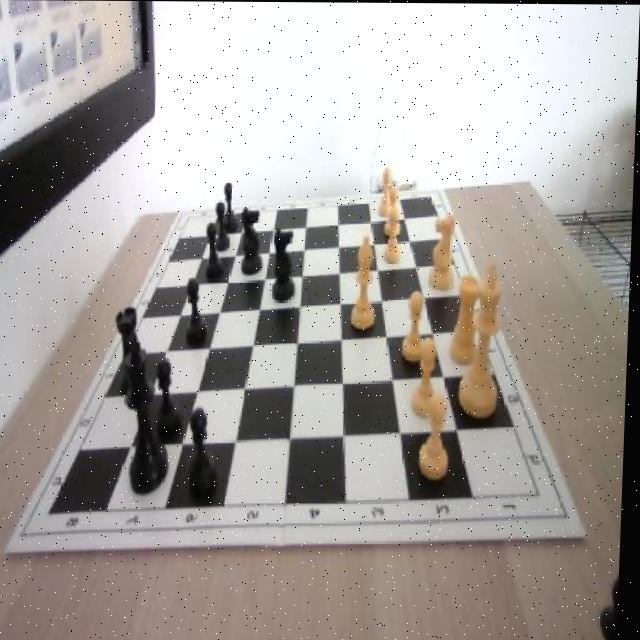black-bishop: (125, 332, 176, 496)
black-king: (273, 223, 300, 301), (242, 204, 266, 275)
black-knight: (190, 410, 222, 498), (158, 355, 186, 440), (187, 275, 212, 345), (207, 225, 226, 280), (223, 183, 241, 235), (215, 201, 233, 250)
black-queen: (116, 305, 153, 391)
black-rook: (352, 232, 380, 328)
white-bishop: (461, 263, 511, 417)
white-king: (431, 212, 459, 288)
white-knight: (421, 394, 456, 483), (409, 338, 441, 420), (404, 289, 432, 360), (384, 207, 405, 263), (387, 184, 404, 237), (381, 165, 395, 215)
white-queen: (451, 275, 485, 364)
